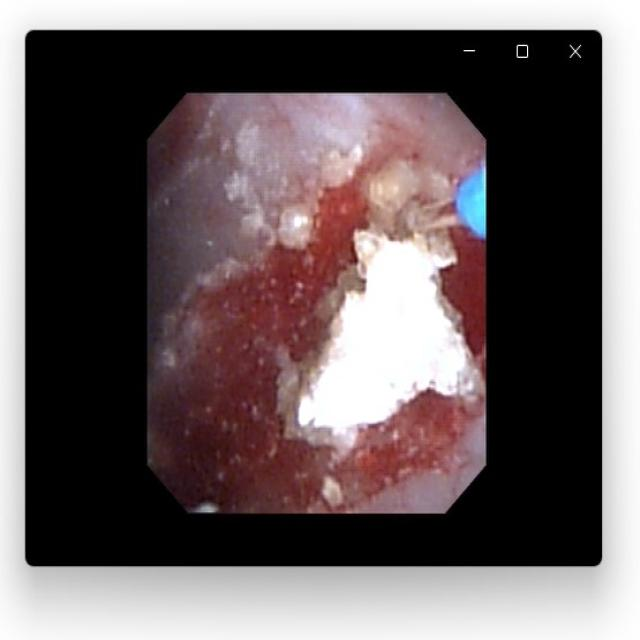fiber: (457, 173, 484, 239)
stone: (273, 162, 479, 470), (283, 146, 362, 250)
